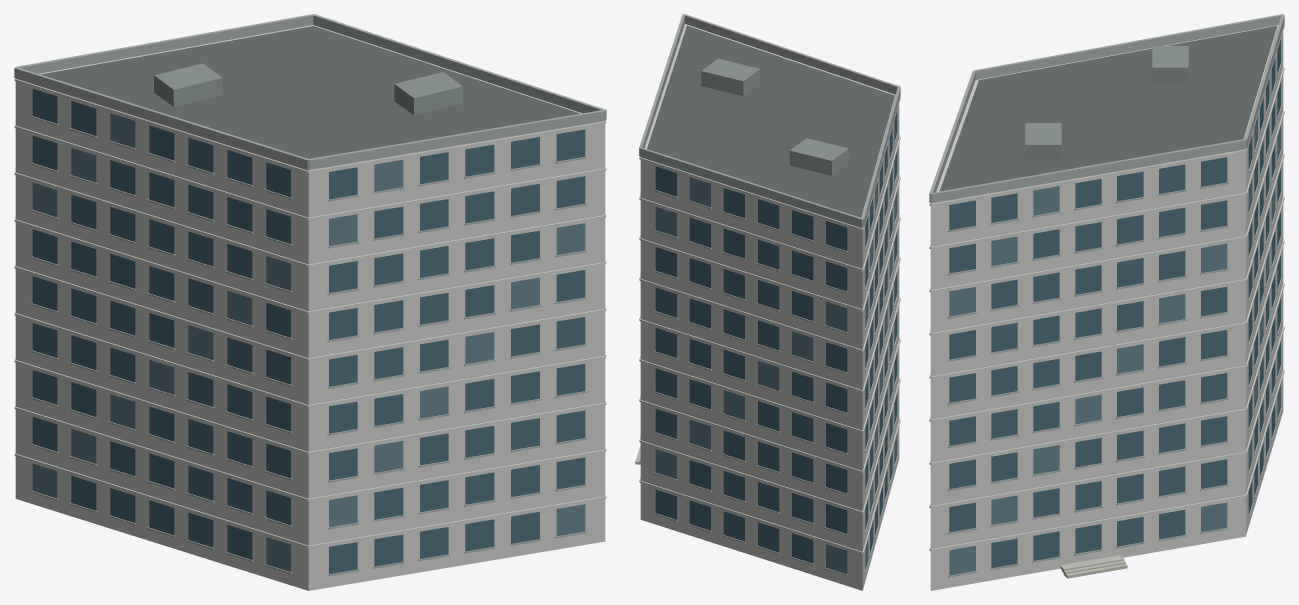
Rendered from 软件园与科创楼-017.glb.
3 views of the same model, side by side, from view 1: azimuth 30°, elevation 25°; view 2: azimuth 150°, elevation 25°; view 3: azimuth 270°, elevation 25° (orthographic). The views are drawn at different scales.
Parts seen in each view (by area): view 1: 软件园与科创楼-017; view 2: 软件园与科创楼-017; view 3: 软件园与科创楼-017.
Boxes of the visible parts, box(x1,y1,x2,y2) form: 软件园与科创楼-017: box(14, 14, 606, 590); 软件园与科创楼-017: box(635, 14, 900, 590); 软件园与科创楼-017: box(929, 14, 1284, 590).
Bounding box in the file's own units: 32.87 × 34.42 × 27.37.
